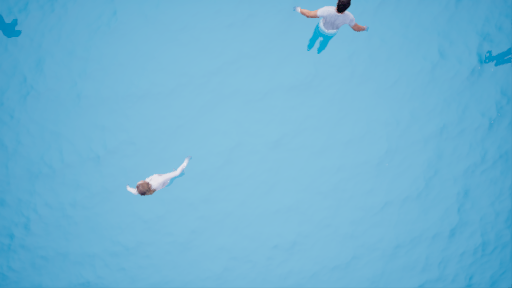person: (283, 2, 374, 57), (116, 157, 199, 198)
